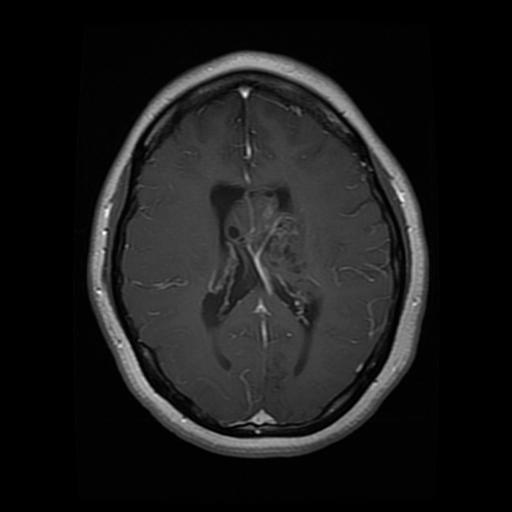Gliomia_tumour: (220, 187, 317, 301)
